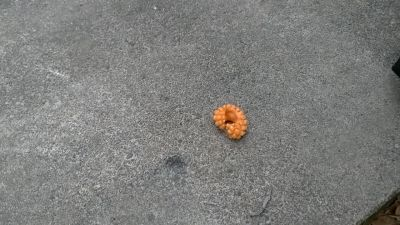eggs: (212, 103, 249, 142)
